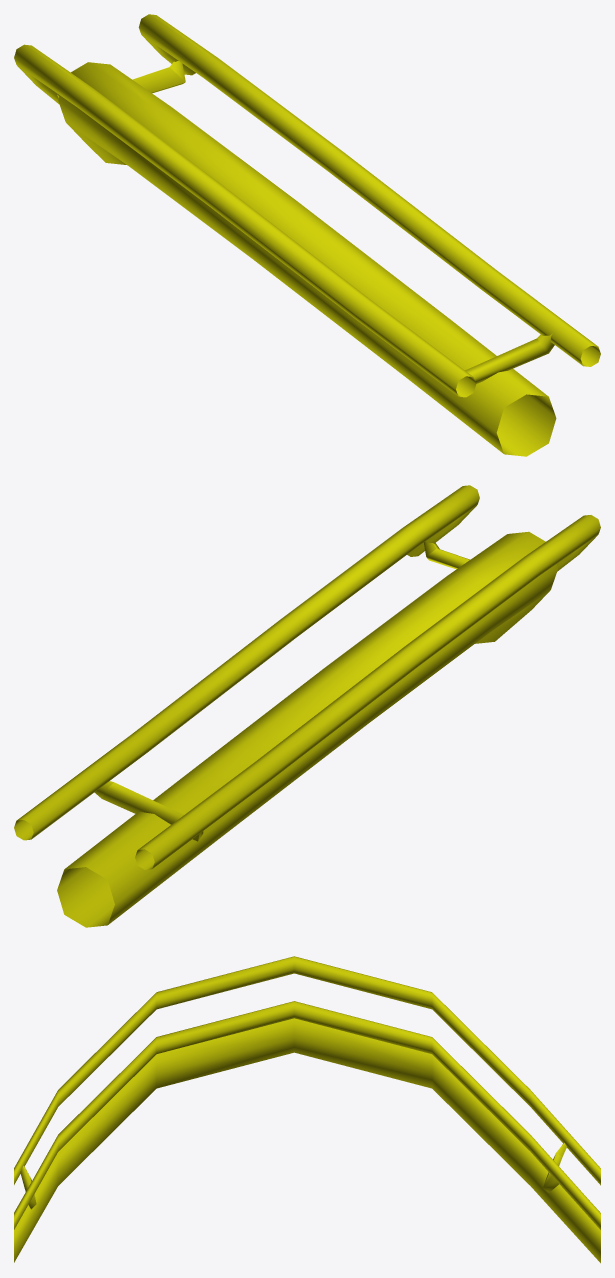
The picture shows the model from 3 angles, top to bottom: view 1: azimuth 30°, elevation 25°; view 2: azimuth 150°, elevation 25°; view 3: azimuth 270°, elevation 25°; orthographic projection. The views are drawn at different scales.
Parts seen in each view (by area): view 1: Mesh; view 2: Mesh; view 3: Mesh.
Part boxes in pixels (x1=…): Mesh: x1=14, y1=14, x2=600, y2=456; Mesh: x1=14, y1=485, x2=600, y2=927; Mesh: x1=14, y1=956, x2=600, y2=1263.
Bounding box in the file's own units: 153 × 127 × 315.
